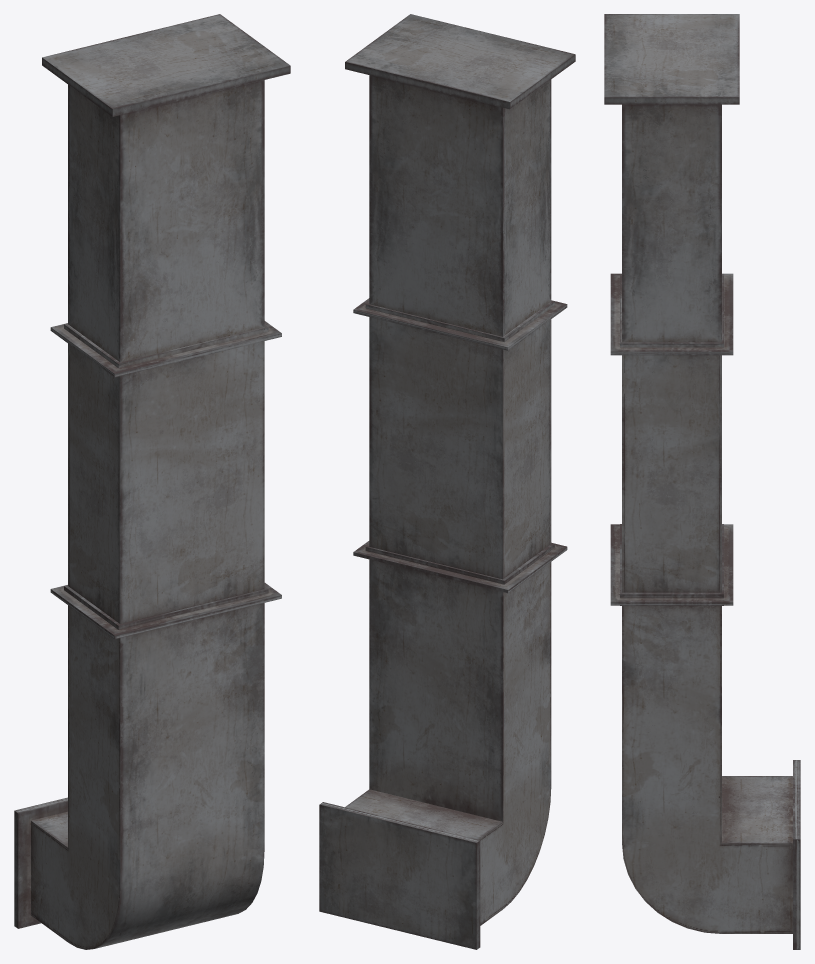
Rendered from Chimney_Square_A.fbx.
3 views of the same model, side by side, from view 1: azimuth 30°, elevation 25°; view 2: azimuth 150°, elevation 25°; view 3: azimuth 270°, elevation 25° (orthographic). The views are drawn at different scales.
Parts seen in each view (by area): view 1: Chimney_Square_A; view 2: Chimney_Square_A; view 3: Chimney_Square_A.
Boxes of the visible parts, left/top/right/bottom form: Chimney_Square_A: left=14, top=14, right=290, bottom=949; Chimney_Square_A: left=319, top=14, right=575, bottom=949; Chimney_Square_A: left=604, top=14, right=800, bottom=949.
Bounding box in the file's own units: 64.65 × 310 × 64.41.
Materials: 1 (1 with a texture image).
